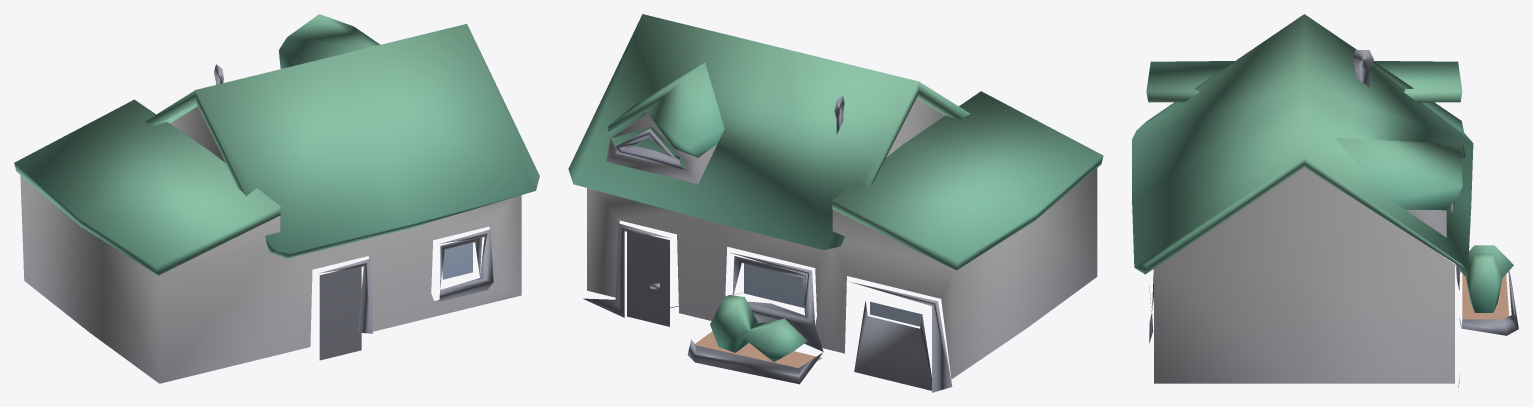
3 renders of one model, left to right at view 1: azimuth 30°, elevation 25°; view 2: azimuth 150°, elevation 25°; view 3: azimuth 270°, elevation 25°, orthographic. The views are drawn at different scales.
Size of the model in its own units: 10.29 by 5.9 by 8.22.
